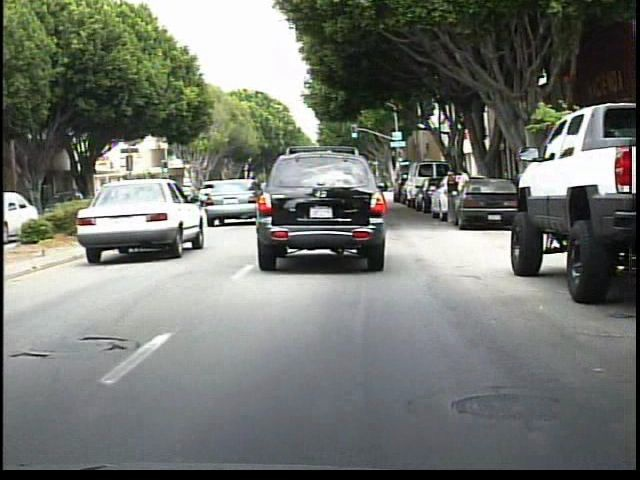person: (444, 171, 463, 230), (455, 165, 472, 222)
